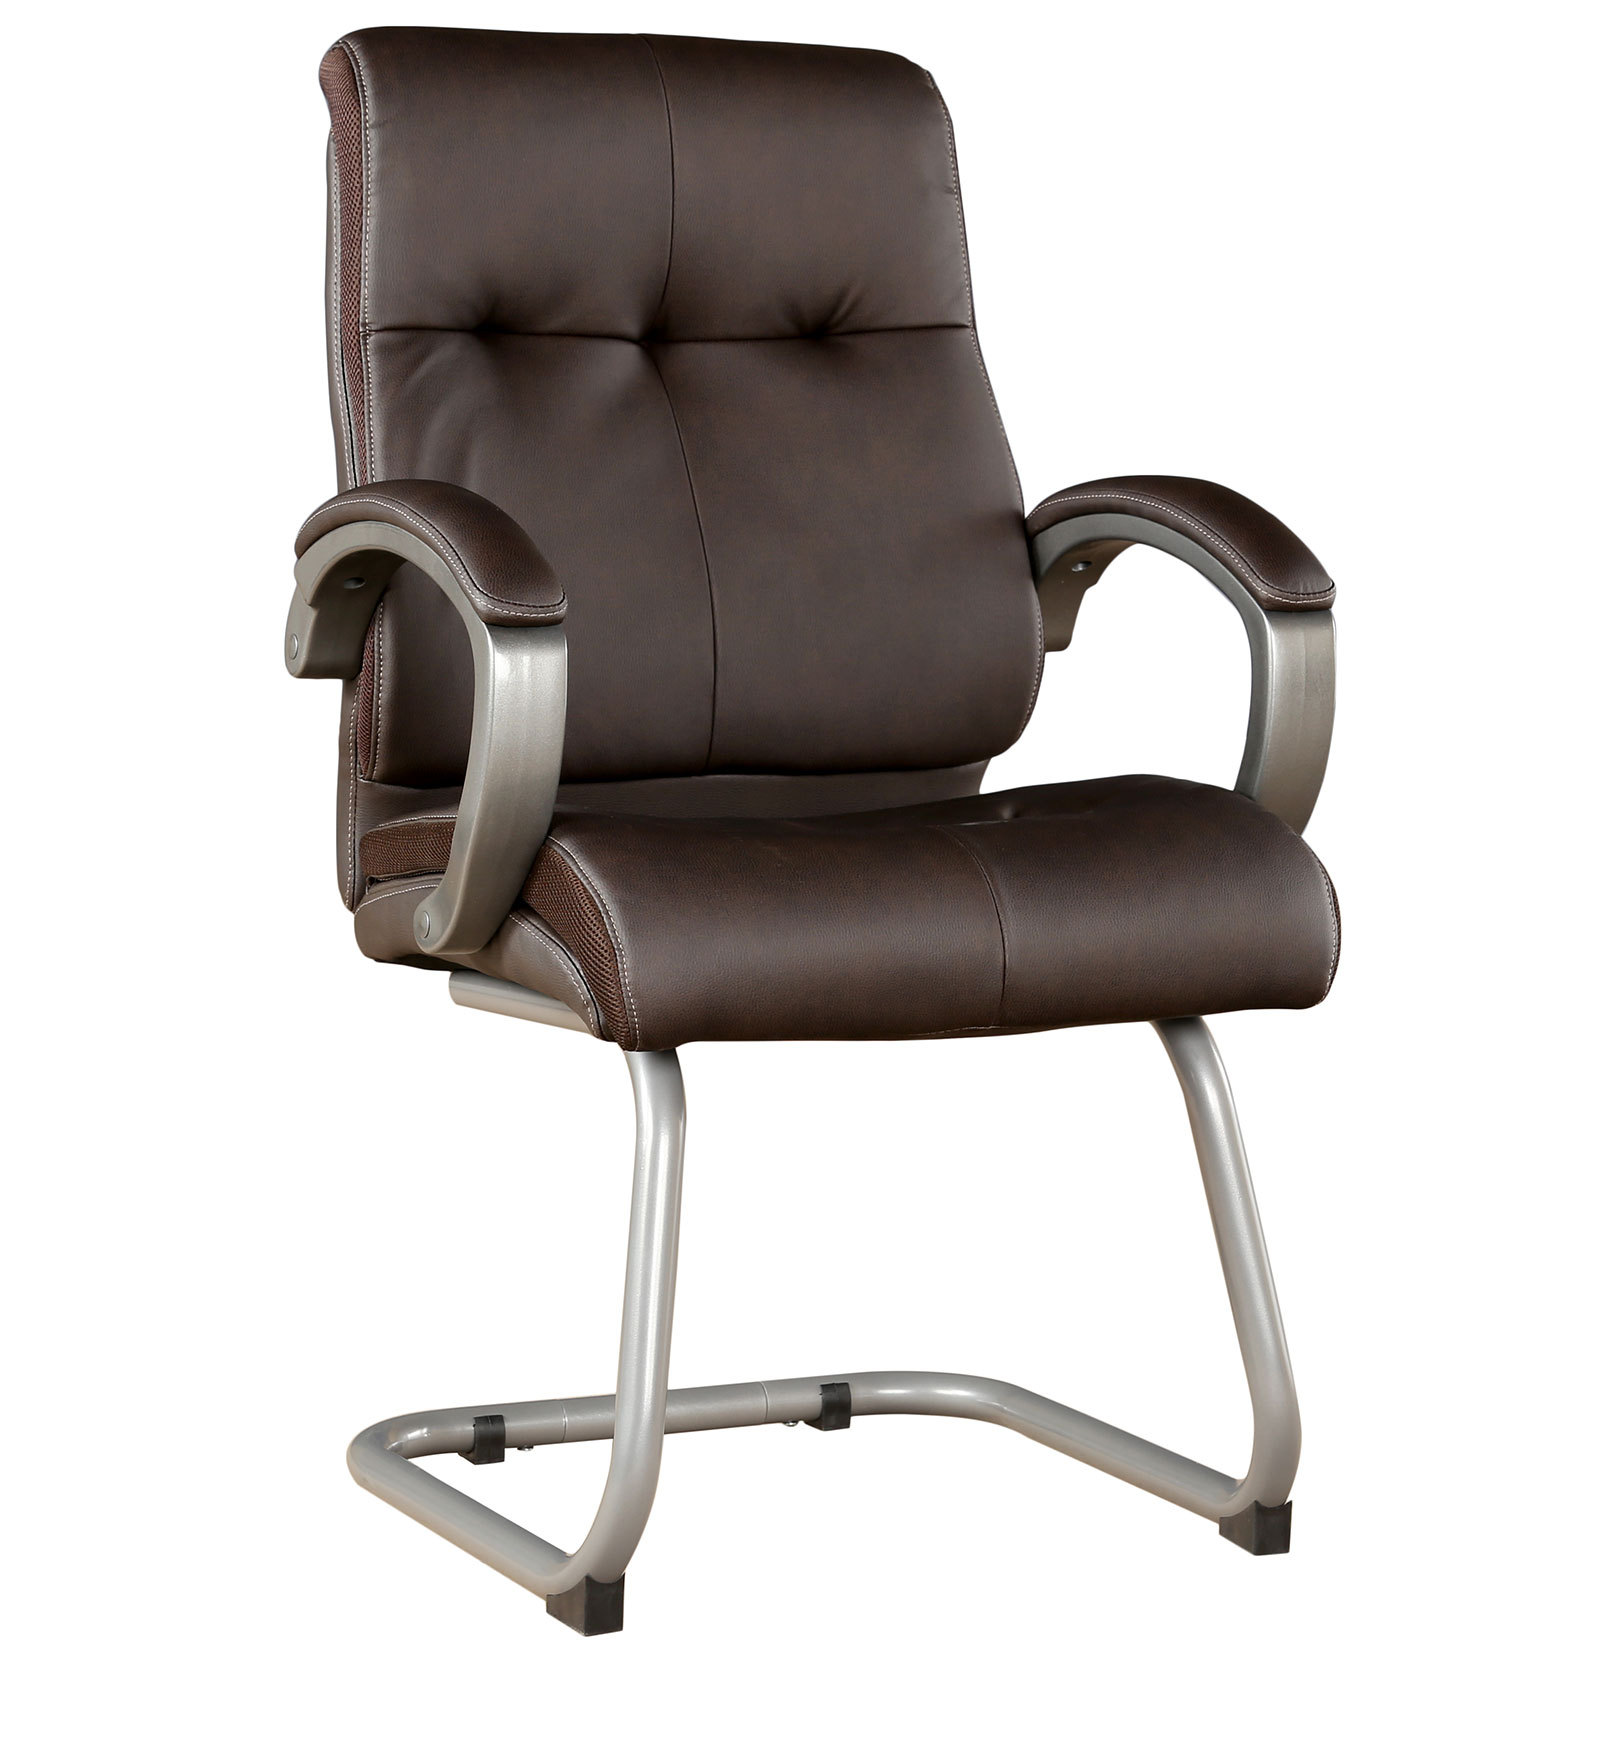Hugo Leatherette Ergonomic Chair by Hometown: (264, 15, 1362, 1660)
